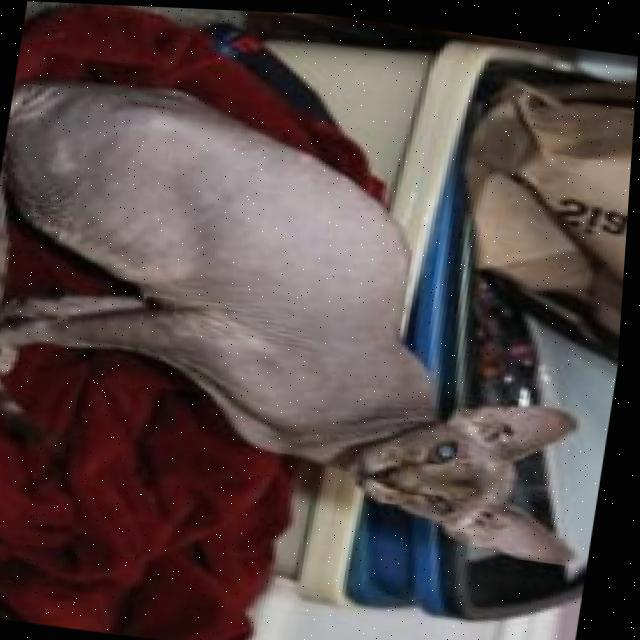Sphynx: (0, 66, 637, 565)
